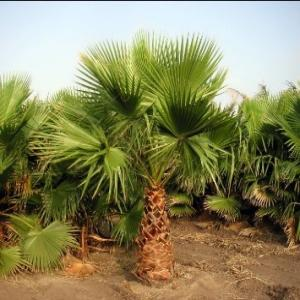palm tree: (33, 28, 244, 285)
